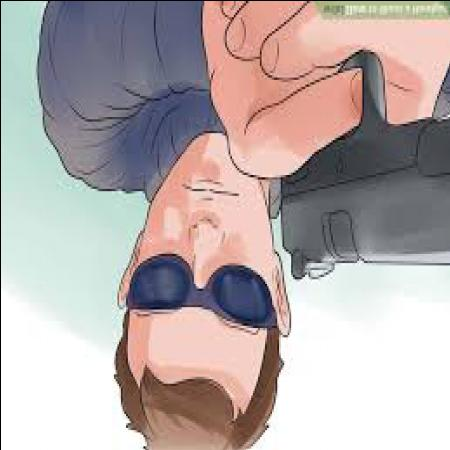Pistol: (274, 44, 448, 288)
